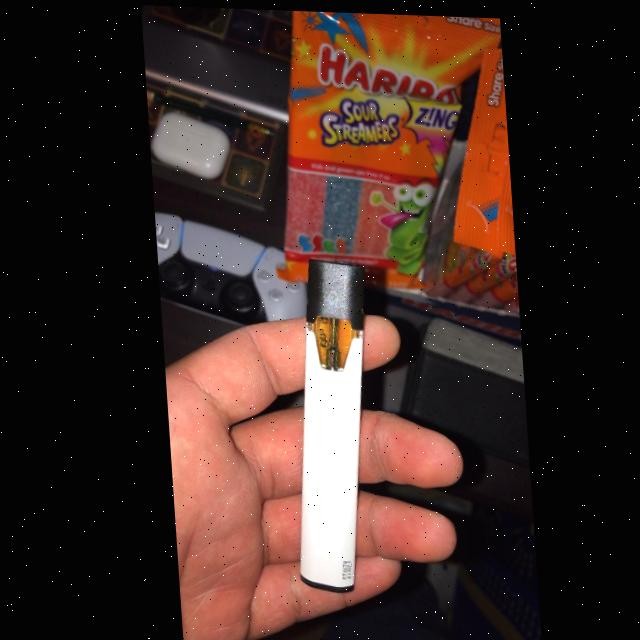vape: (273, 254, 378, 594)
